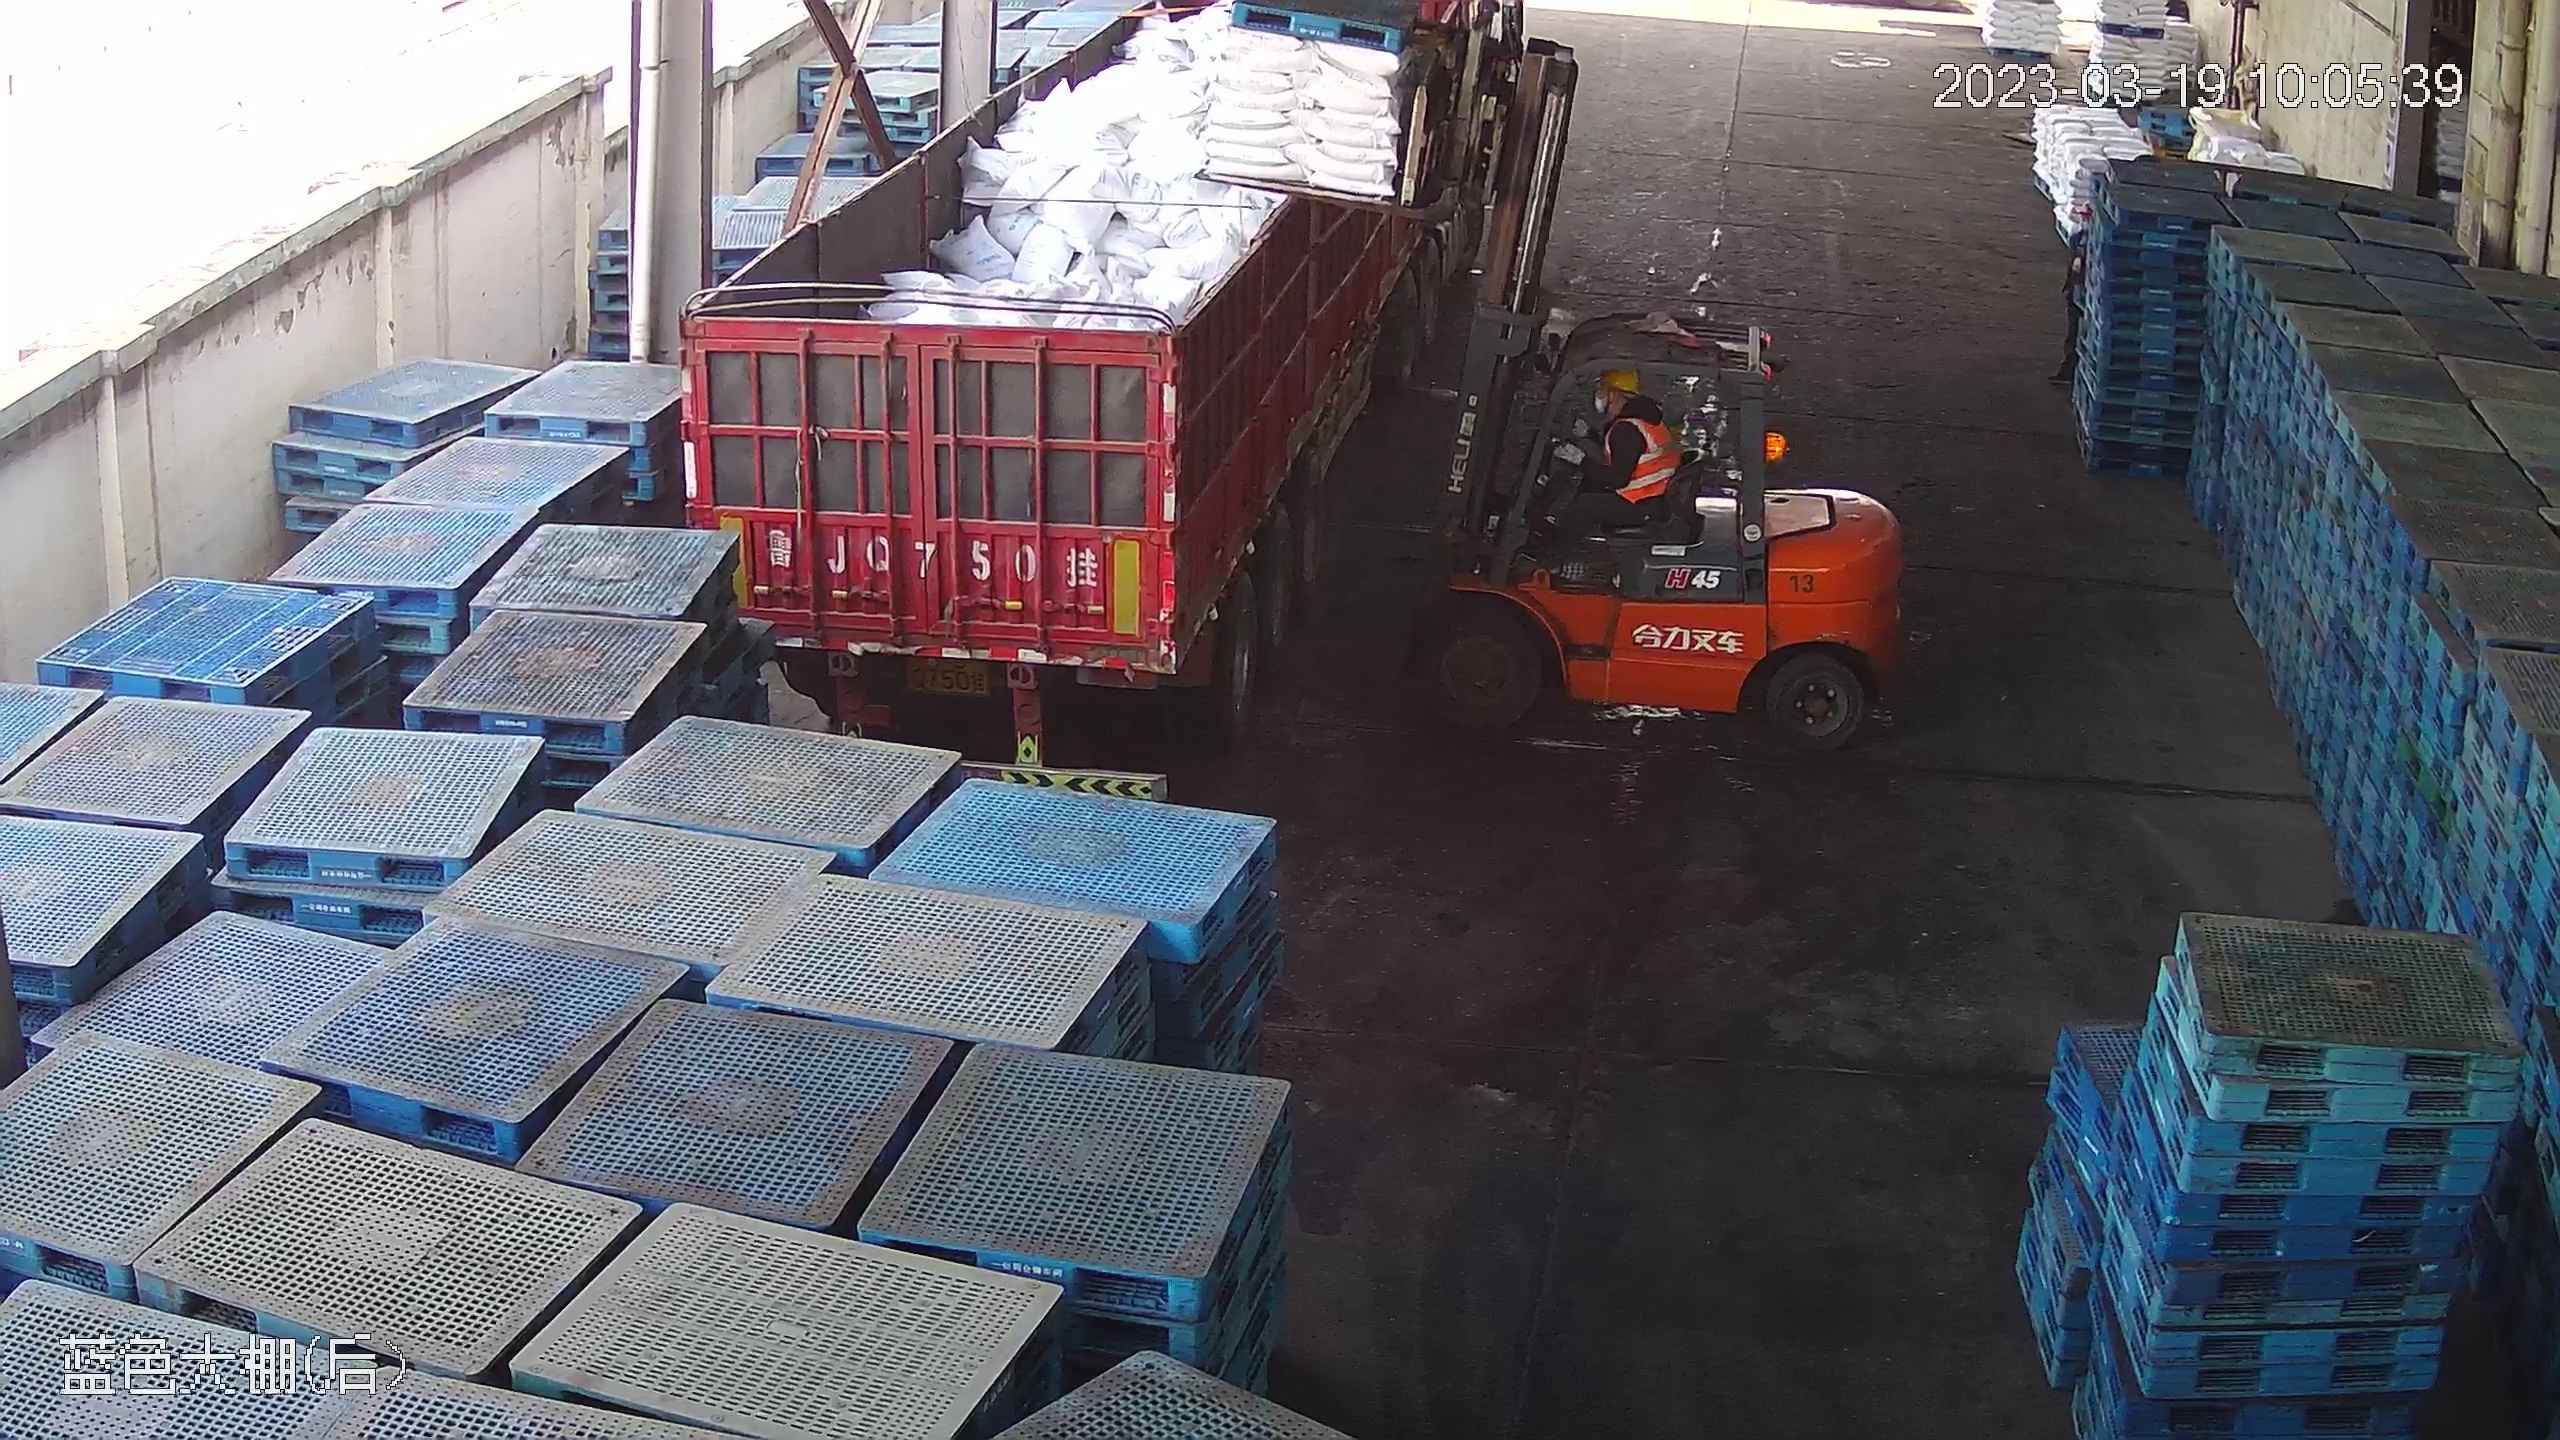head: (1539, 362, 1677, 557), (1589, 366, 1665, 451)
helmet: (1598, 365, 1641, 395)
people: (1536, 362, 1680, 562)
truck: (684, 1, 1478, 771)
